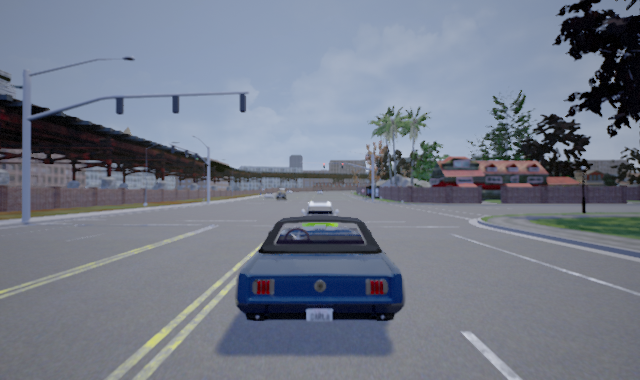vehicle: (236, 215, 404, 323), (298, 200, 342, 242)
